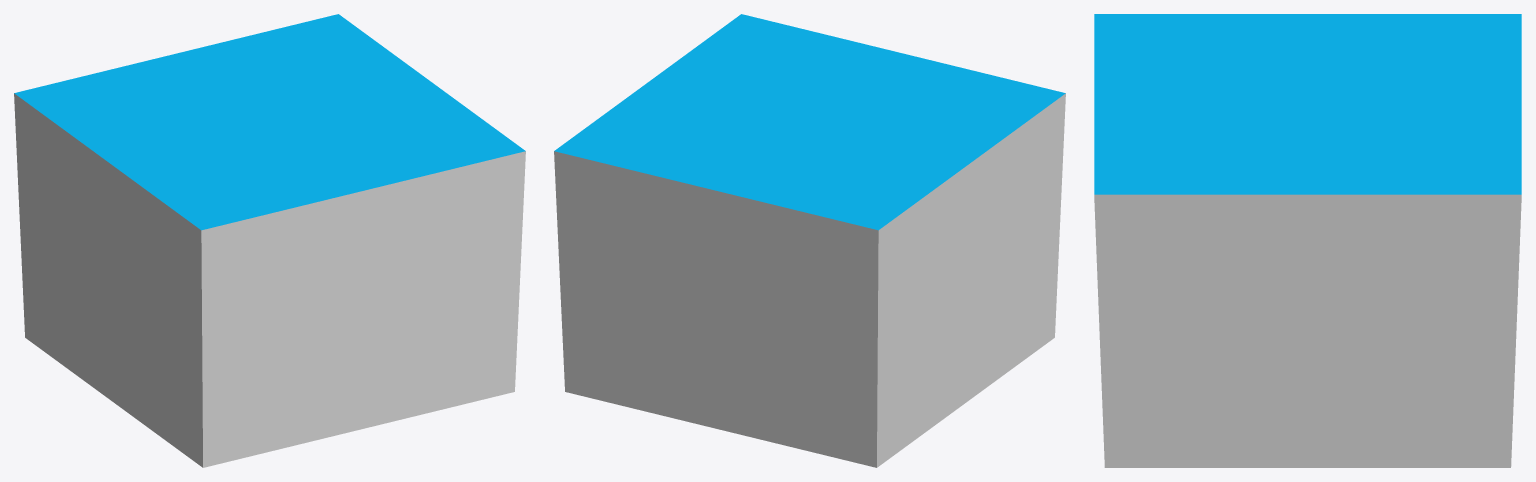
File: fish_suiso_l.gltf
3 views of the same model, side by side, from view 1: azimuth 30°, elevation 25°; view 2: azimuth 150°, elevation 25°; view 3: azimuth 270°, elevation 25° (orthographic). The views are drawn at different scales.
Parts seen in each view (by area): view 1: fish_suiso_l; view 2: fish_suiso_l; view 3: fish_suiso_l.
Boxes of the visible parts, x1,y1,x2,y2 form: fish_suiso_l: [14, 14, 525, 467]; fish_suiso_l: [554, 14, 1065, 467]; fish_suiso_l: [1094, 14, 1521, 467].
Size of the model in its own units: 1.76 by 1.26 by 1.76.
